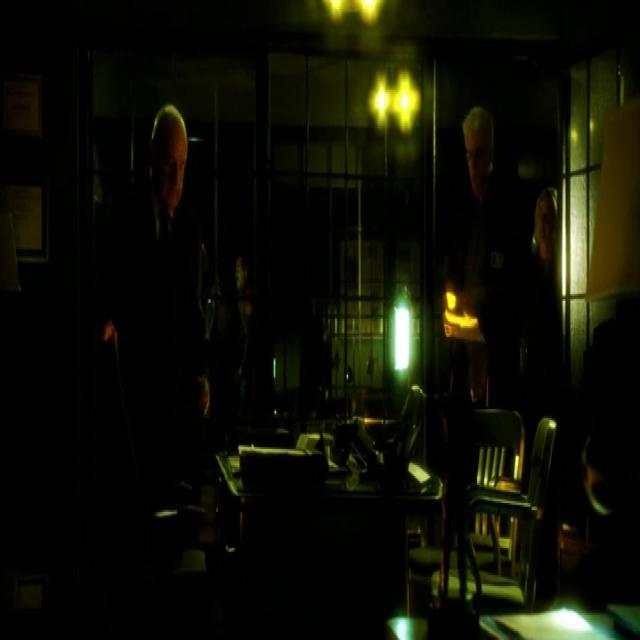People: (88, 68, 211, 490), (440, 91, 528, 414), (520, 165, 579, 412), (224, 252, 281, 439), (192, 217, 229, 377)
Table: (211, 419, 443, 640)
chair: (456, 407, 566, 640), (451, 386, 524, 607)
